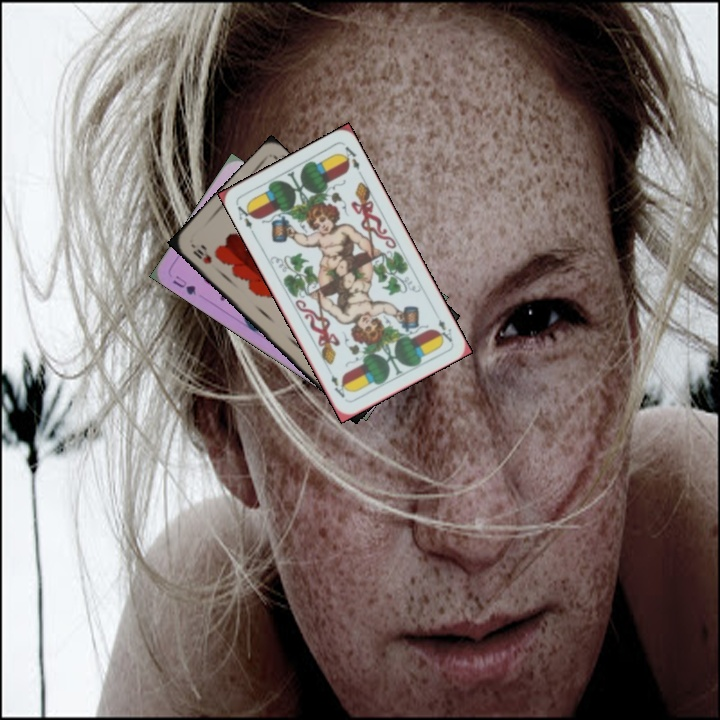EA: (233, 200, 257, 232), (432, 315, 455, 345)
GU: (169, 271, 199, 298)
H10: (189, 245, 214, 267)
